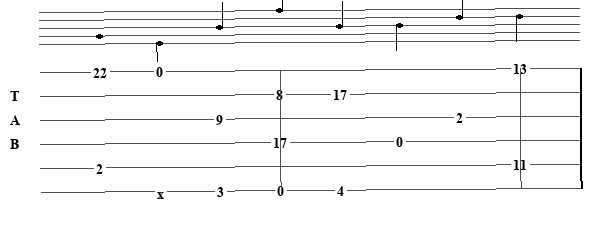0: (156, 63, 167, 77), (276, 183, 287, 197), (396, 135, 407, 149)
11: (513, 159, 531, 173)
13: (513, 63, 531, 77)
17: (273, 135, 291, 149), (333, 87, 351, 101)
2: (96, 159, 107, 173), (456, 111, 467, 125)
22: (93, 63, 111, 77)
3: (216, 183, 227, 197)
4: (336, 183, 347, 197)
8: (276, 87, 287, 101)
9: (216, 111, 227, 125)
x: (156, 185, 167, 196)
